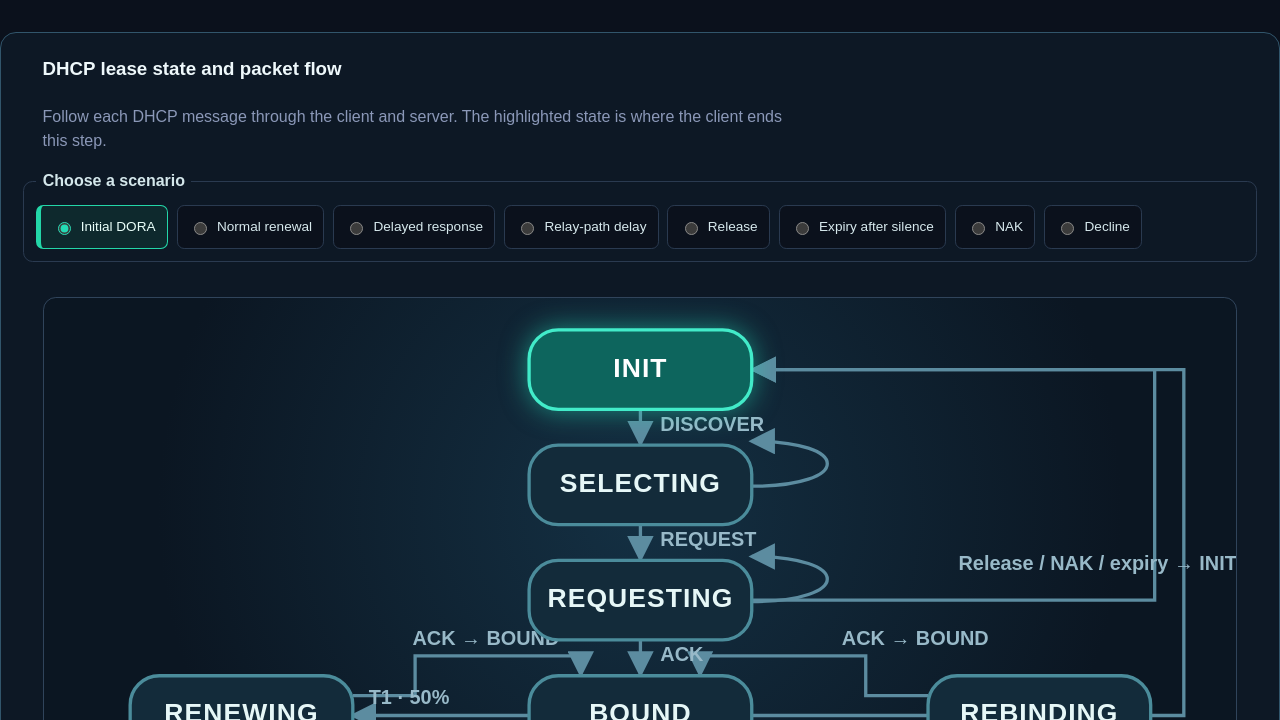
advanced DHCP lease timing › does not animate a packet on lease expiry without an ACK
The image size is (1280, 720).
Click the radio button labelled "Expiry after silence".
click(802, 229)  # box [796,222,809,235]
(page scrolled)
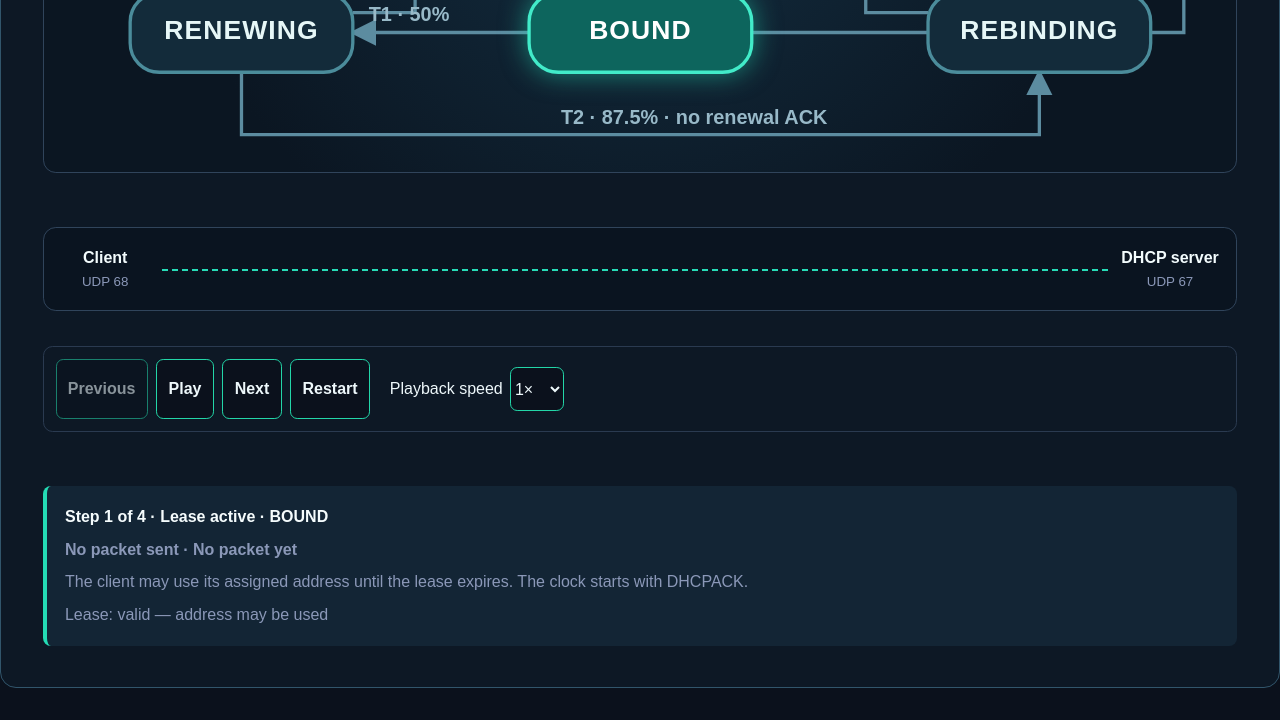
Expected: the message shows "Lease active", [160,508,255,525]
Click the button "Next".
click(252, 389)  # box [222,359,282,419]
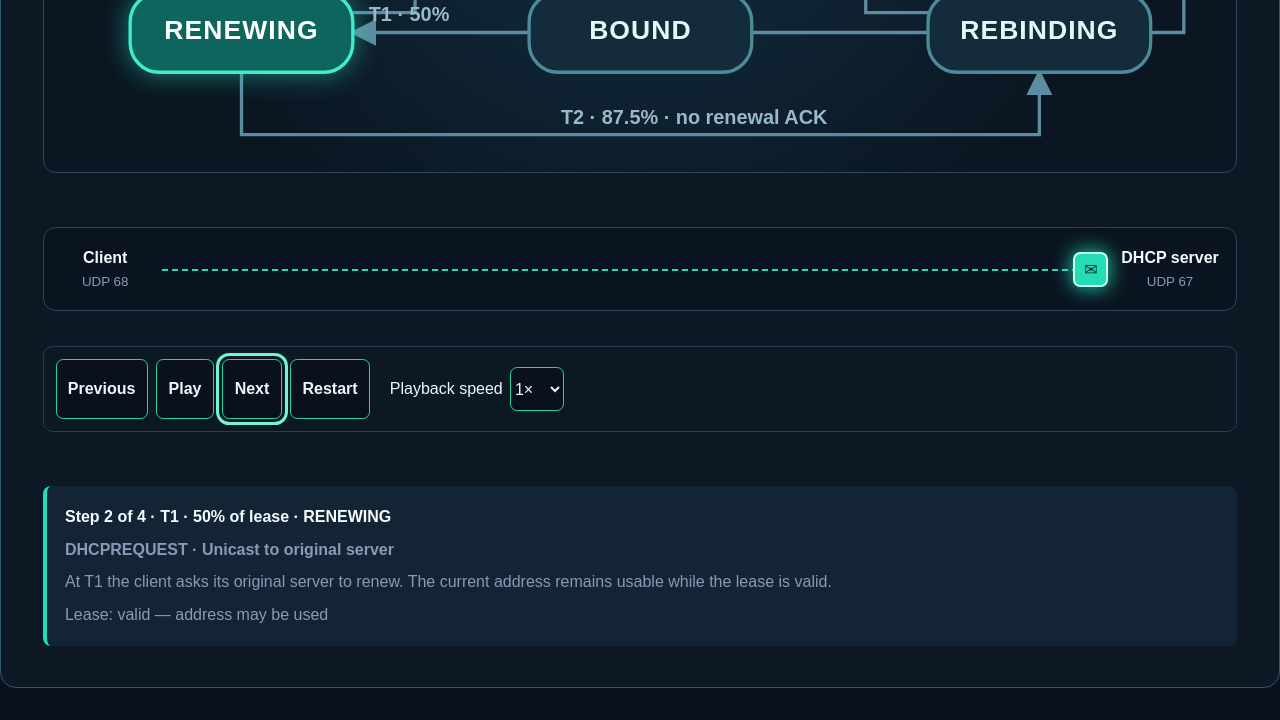
Click the button "Next".
click(252, 389)  # box [222,359,282,419]
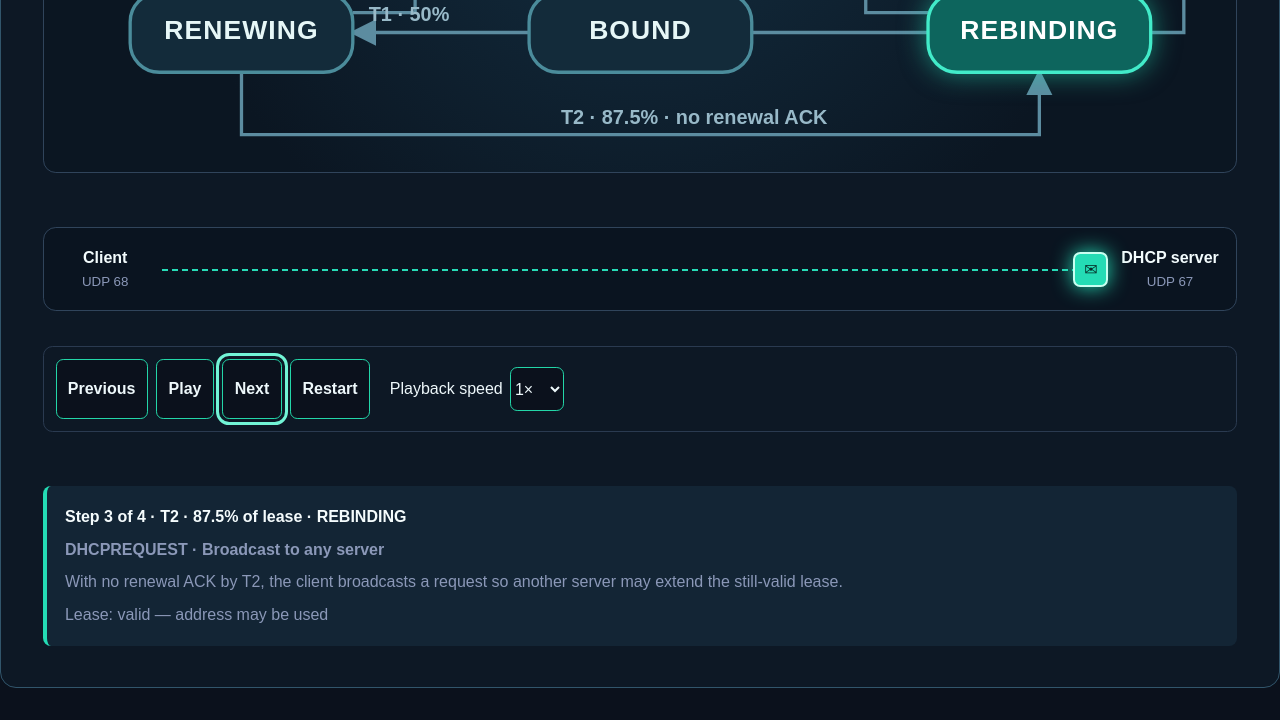
Click the button "Next".
click(252, 389)  # box [222,359,282,419]
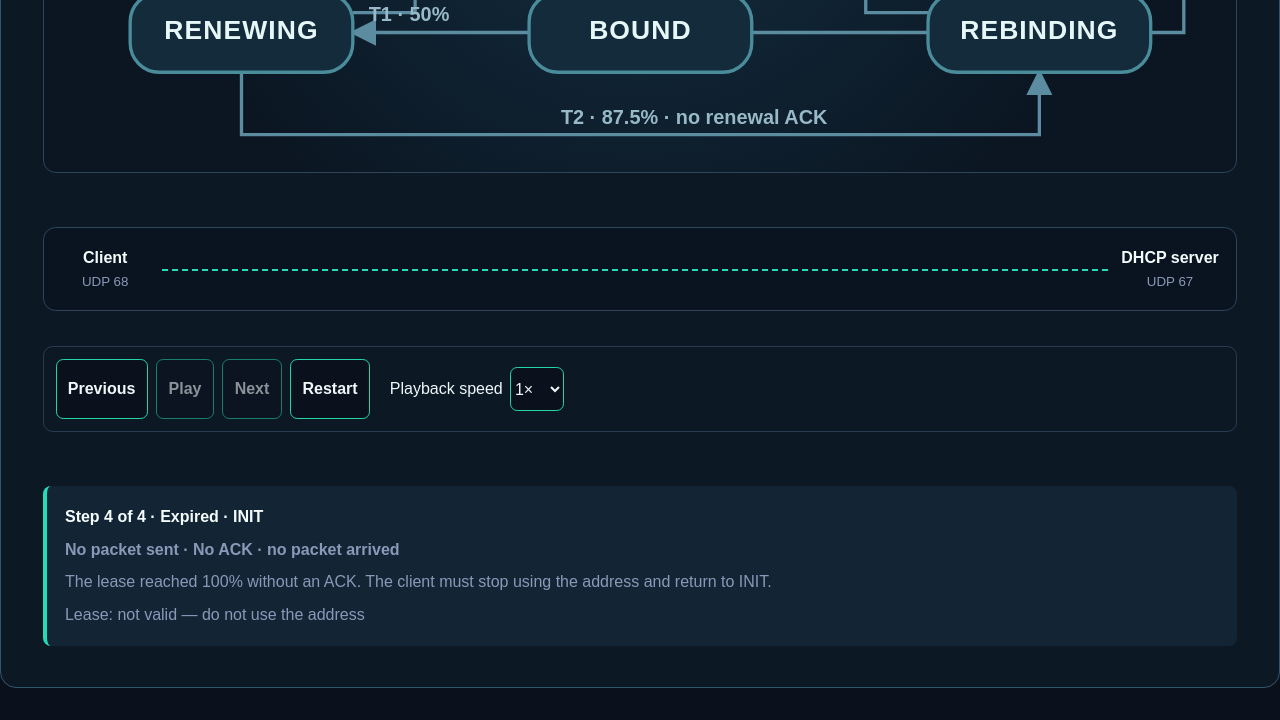
Expected: the message shows "Expired", [160,508,219,525]
Expected: the message shows "No ACK · no packet arrived", [193,541,400,558]
Expected: the text with test id "dhcp-packet" is gone
